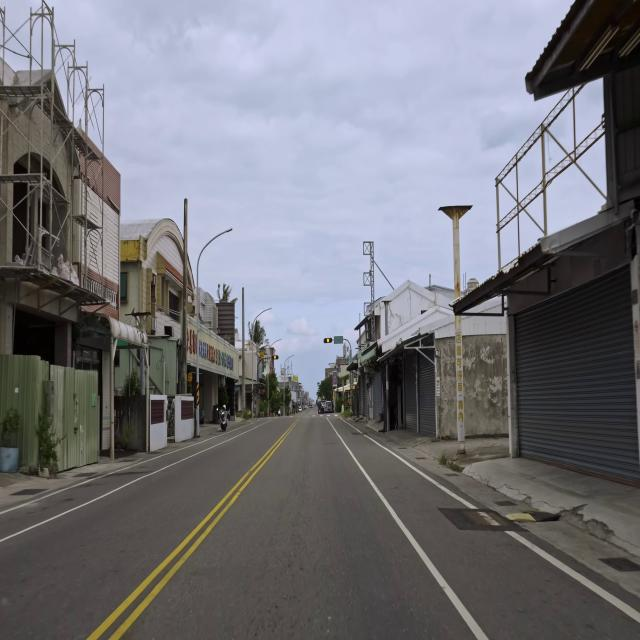yellow light: (324, 336, 332, 344), (272, 354, 278, 360)
